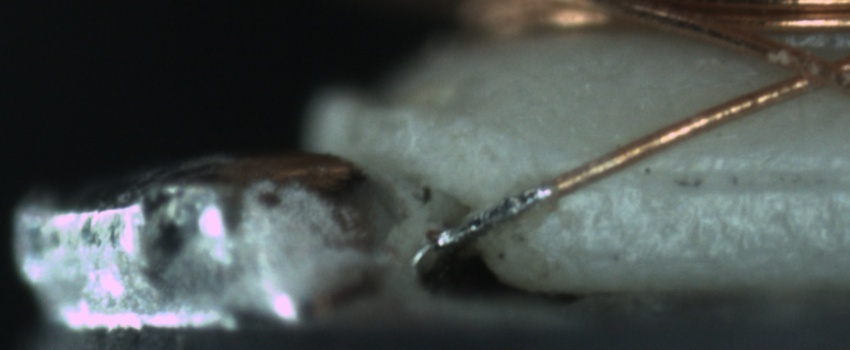CL: (762, 42, 846, 101)
DL: (613, 141, 846, 212)
TS: (425, 181, 551, 253)
TTCW: (431, 166, 578, 253)
